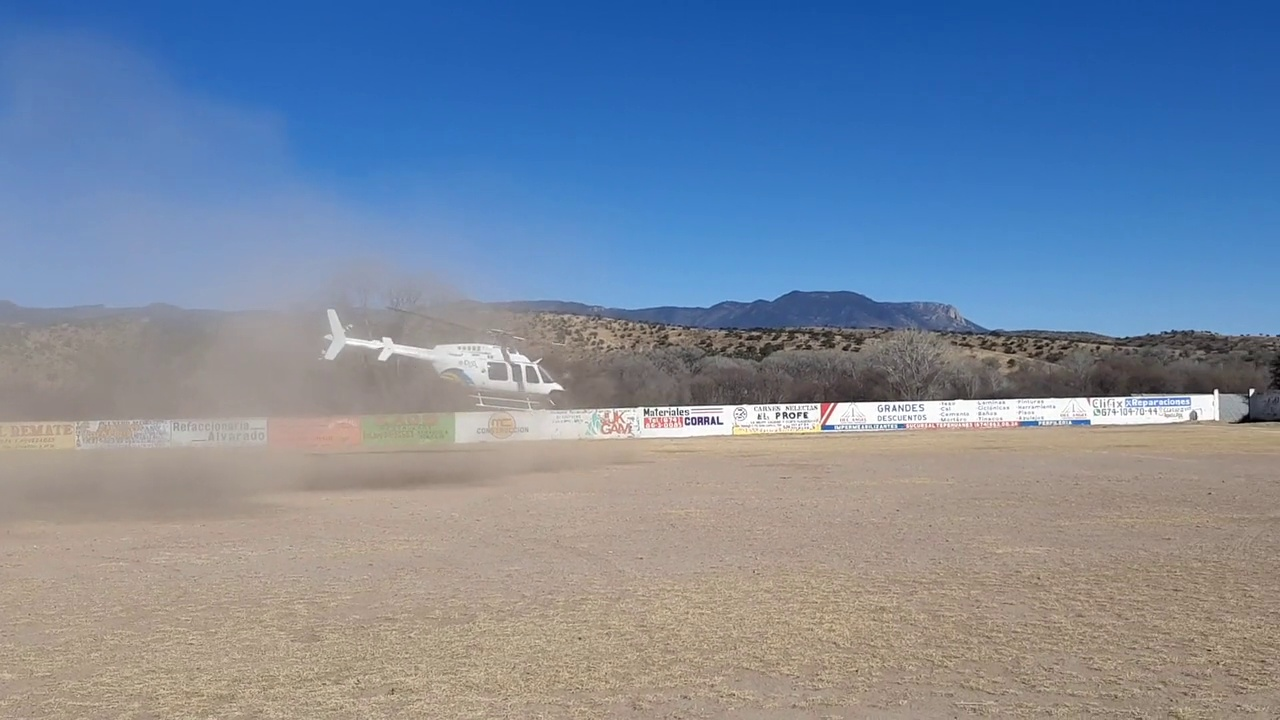heli: (322, 306, 570, 411)
